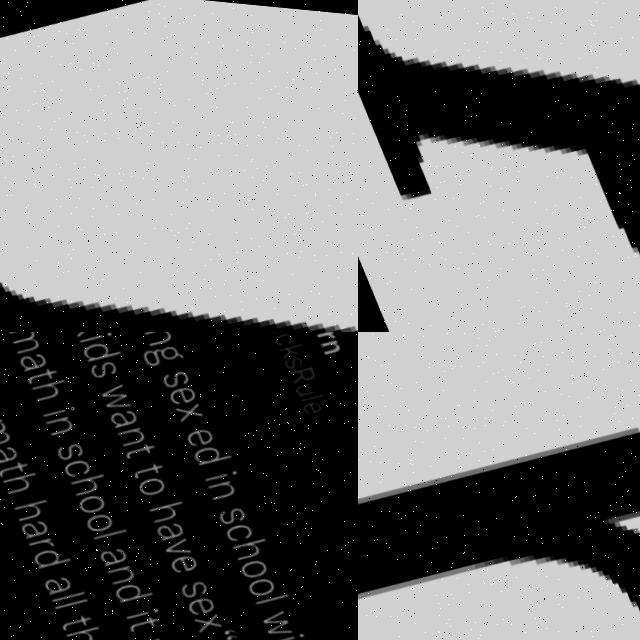A: (34, 565, 68, 592), (11, 509, 44, 536), (13, 343, 47, 369), (90, 536, 123, 562), (104, 398, 136, 423), (148, 510, 180, 534), (0, 434, 16, 462)
C: (55, 448, 89, 474), (217, 509, 250, 534), (269, 332, 293, 337)
D: (185, 428, 228, 460), (104, 568, 148, 599), (24, 536, 65, 567), (76, 332, 120, 358)
E: (160, 540, 194, 569), (179, 413, 212, 442), (177, 582, 210, 610), (163, 373, 196, 400), (296, 386, 322, 407)
G: (135, 332, 183, 364)
H: (223, 523, 268, 554), (142, 489, 184, 517), (62, 464, 104, 492), (27, 370, 68, 398), (7, 491, 47, 518), (0, 464, 36, 492), (56, 616, 97, 640)
I: (37, 395, 75, 415), (117, 597, 152, 615), (199, 458, 234, 475), (262, 619, 297, 636), (76, 332, 111, 338)
K: (274, 332, 306, 350)
L: (0, 95, 358, 332), (84, 517, 123, 536), (42, 580, 81, 599), (247, 580, 284, 599), (46, 588, 81, 605), (264, 626, 300, 640), (295, 380, 323, 394), (268, 632, 304, 640)
M: (2, 332, 38, 351), (0, 410, 9, 444)
N: (199, 467, 233, 493), (98, 556, 131, 580), (111, 417, 143, 441), (39, 407, 71, 431), (316, 332, 340, 345), (139, 332, 171, 339)
O: (237, 562, 273, 591), (77, 501, 110, 530), (130, 464, 163, 492), (231, 546, 264, 572), (71, 484, 101, 508)
P: (358, 18, 640, 263)
R: (358, 357, 640, 640), (284, 352, 316, 376), (19, 528, 51, 549), (127, 626, 156, 640)
S: (83, 349, 118, 375), (156, 356, 190, 382), (209, 493, 244, 518), (170, 568, 204, 593), (49, 433, 81, 457), (278, 341, 303, 360)
T: (124, 450, 161, 474), (51, 604, 86, 629), (19, 358, 56, 381), (117, 431, 153, 454), (118, 605, 153, 627), (0, 450, 26, 475)
U: (290, 369, 312, 387)
V: (154, 526, 188, 552)
W: (92, 373, 128, 407), (251, 597, 286, 630)
X: (185, 601, 217, 627), (170, 391, 202, 415)
